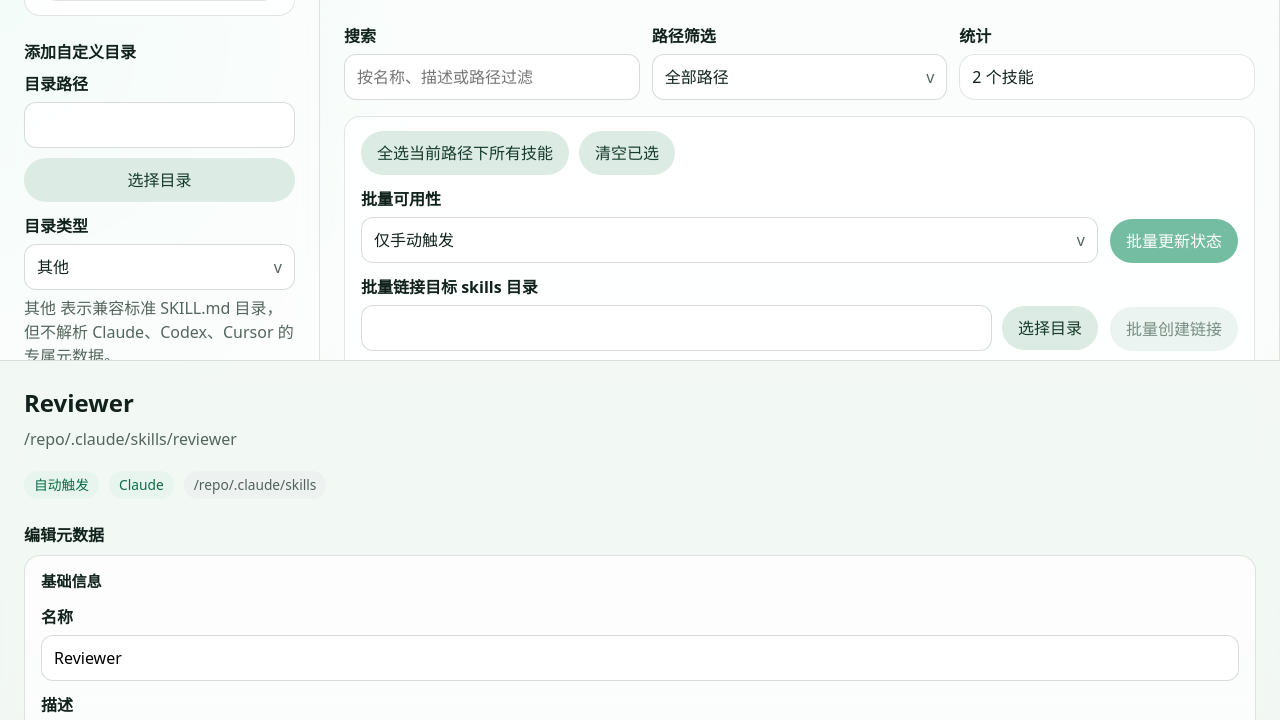
Scenario: App › renders the updated left panel copy, groups directories by type, and lets custom directory picker fill the path
(page scrolled)
Step 1. Click the button with id "pick-directory-path-button" → [160, 180], box [24,158,295,202]
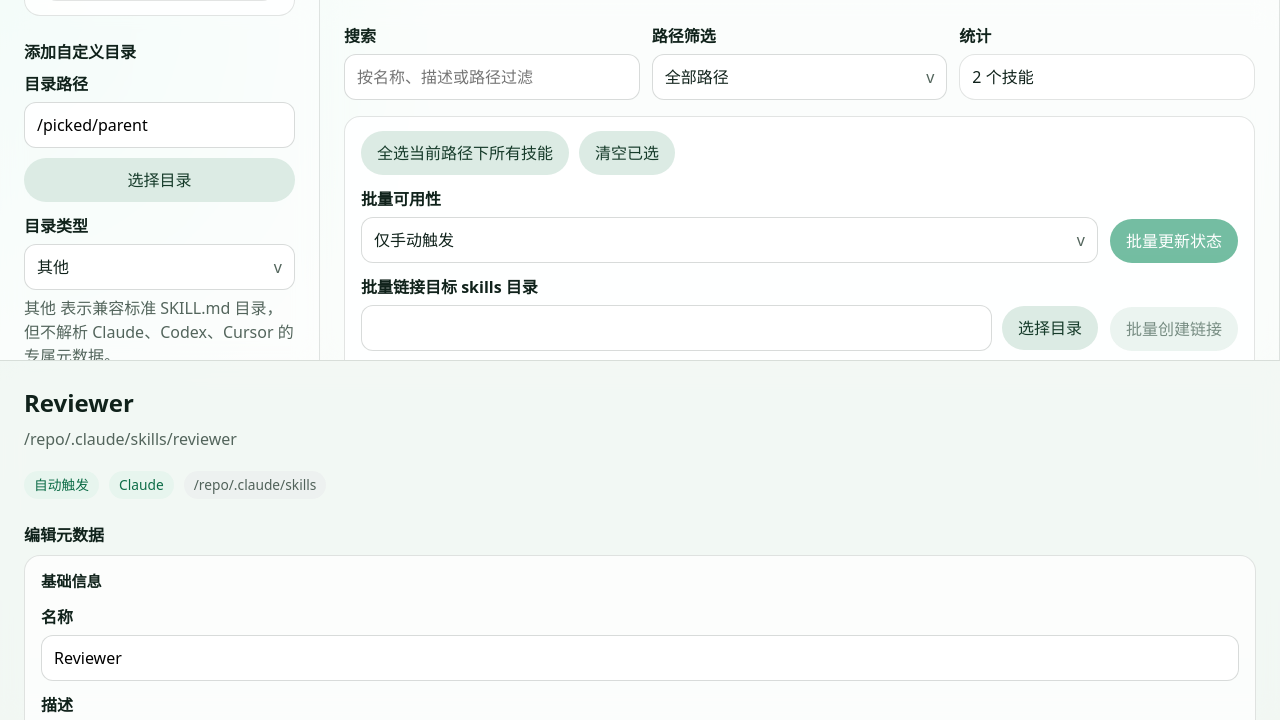
Expected: the field with id "directory-path" holds "/picked/parent", [24,102,295,148]
